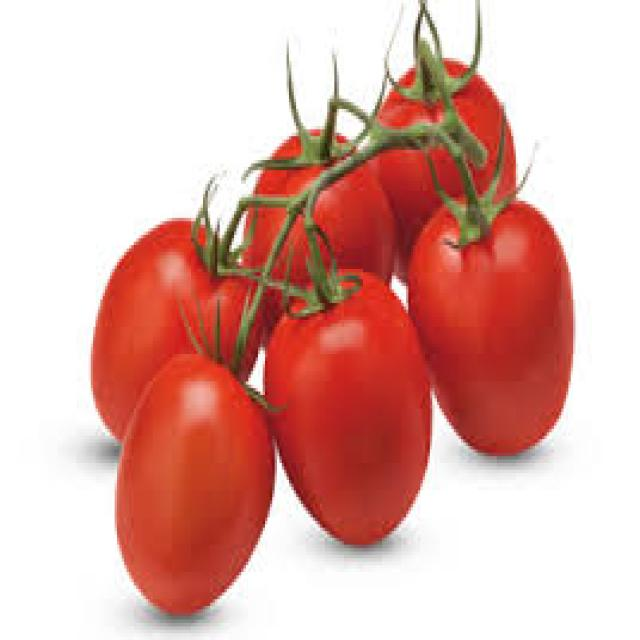Tomato: (240, 275, 449, 560), (80, 320, 280, 615), (67, 177, 278, 456), (406, 165, 568, 472), (230, 118, 416, 359), (370, 61, 542, 277)
